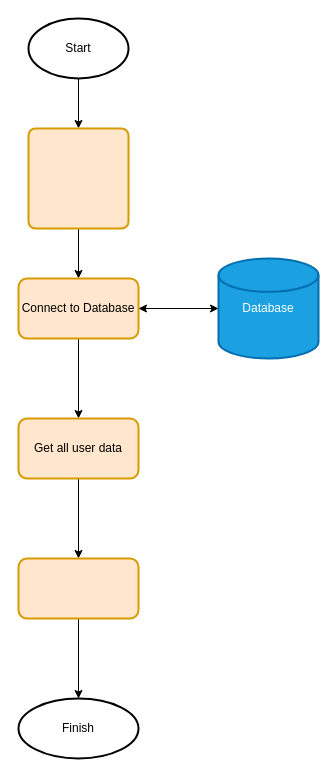
This 336x776 diagram has some shape labels left out. Each missing label, with the box of its shape:
CLI Command: (27, 127, 129, 229)
Display all user data: (17, 557, 139, 619)
